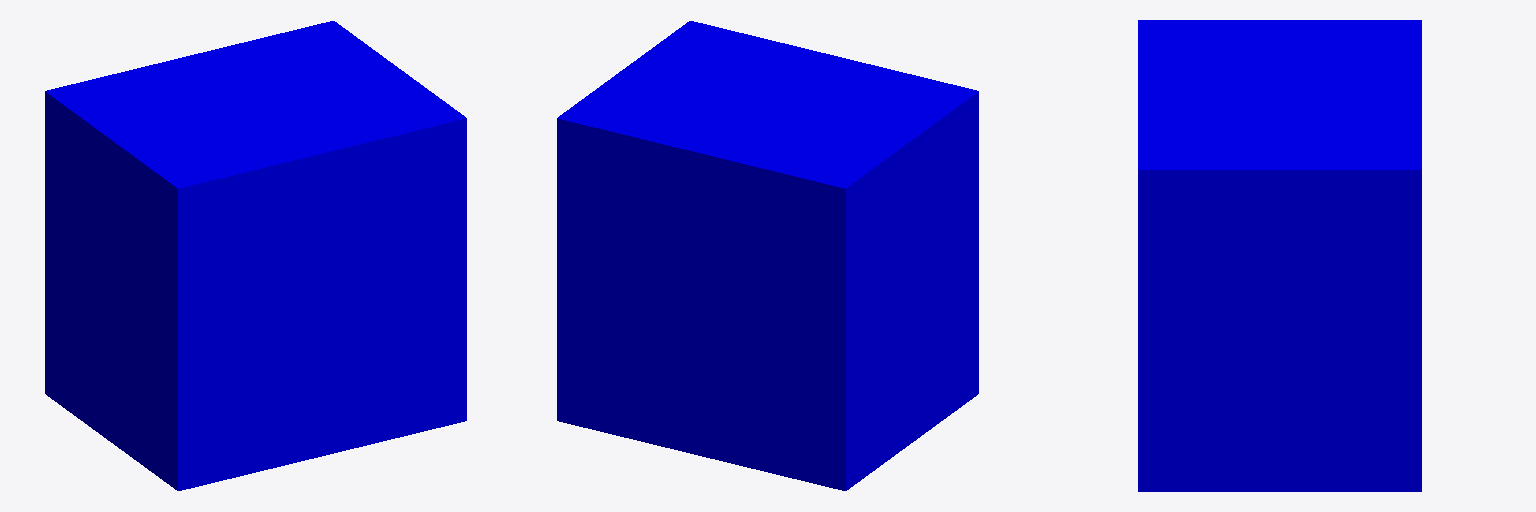
The robot description file, URDF, robot "blue_cube":
<?xml version="1.0" ?>
<robot name="blue_cube">
  <link name="base_link">
    <inertial>
      <origin rpy="0.0 0.0 0.0" xyz="0.0 0.0 0.0"/>
      <mass value="0.05"/>
      <inertia ixx="4.166666666666668e-05" ixy="0.0" ixz="0.0" iyy="4.166666666666668e-05" iyz="0.0" izz="4.166666666666668e-05"/>
    </inertial>
    <visual>
      <origin rpy="0.0 0.0 0.0" xyz="0.0 0.0 0.025"/>
      <geometry>
        <box size="0.1 0.08 0.1"/>
      </geometry>
      <material name="blue">
        <color rgba="0 0 1 1"/>
      </material>
    </visual>
    <collision>
      <origin rpy="0.0 0.0 0.0" xyz="0.0 0.0 0.025"/>
      <geometry>
        <box size="0.1 0.08 0.1"/>
      </geometry>
      <surface>
        <friction>
          <ode>
            <mu>100</mu>
            <mu2>100</mu2>
        <fdir1>1 1 0</fdir1>
          </ode>
        </friction>
      </surface>
    </collision>
  </link>
  <gazebo reference="base_link">
    <material>Gazebo/Blue</material>
  </gazebo>
</robot>

--- What the picture shows (computed from the rendered views, not written in the file) ---
The picture shows the robot from 3 angles, left to right: view 1: azimuth 30°, elevation 25°; view 2: azimuth 150°, elevation 25°; view 3: azimuth 270°, elevation 25°; orthographic projection.
Robot: blue_cube — 1 links, 0 joints (none); root link base_link; default pose: all joints at 0.
Links seen in each view (by area): view 1: base_link; view 2: base_link; view 3: base_link.
Boxes of the visible links, <box> form: base_link: <box>45,21,466,490</box>; base_link: <box>557,21,978,490</box>; base_link: <box>1138,20,1421,491</box>.
Bounding box of the posed robot: 0.1 × 0.08 × 0.1 m (x, y, z).
Geometry: primitives only (box / cylinder / sphere), no mesh files.